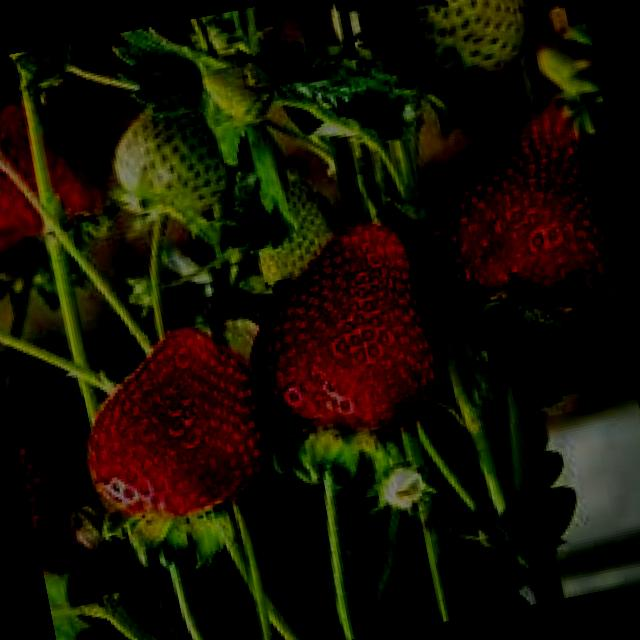Strawberry: (230, 215, 452, 454), (419, 98, 625, 333), (68, 314, 282, 534), (0, 90, 105, 277), (103, 86, 235, 224), (354, 0, 540, 93), (245, 174, 348, 288)
